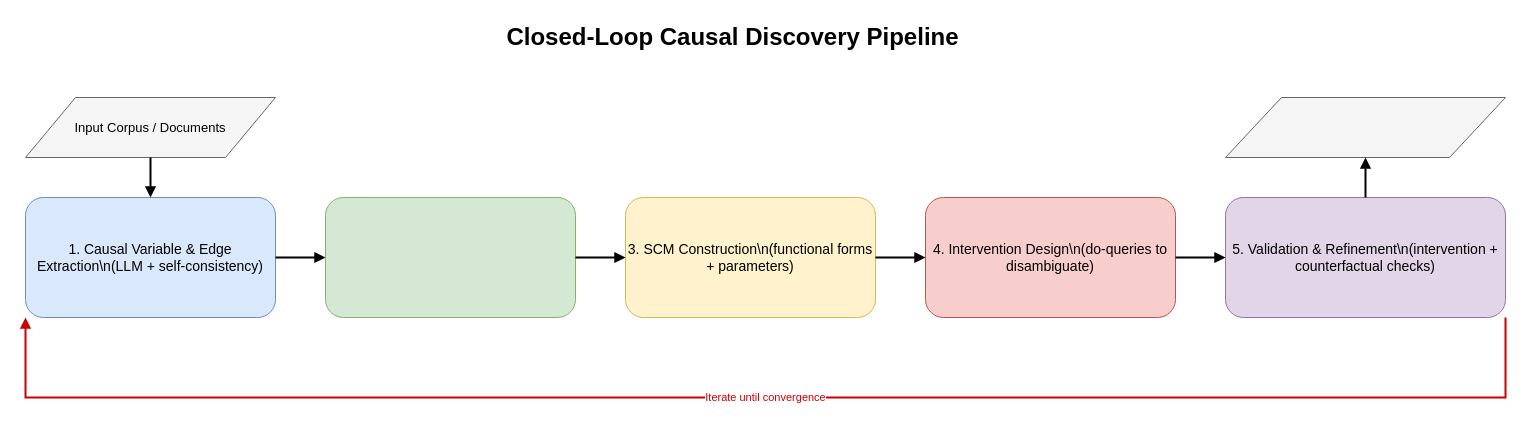
The diagram is 1531 pixels wide and 423 high, and some of its shapes have lost their labels. Here are the shapes that lost their labels. From the top down, the box of each, then its label:
(1224, 96, 1506, 158): Final SCM + Causal Graph
(324, 196, 576, 318): 2. Graph Induction\n(DAG checks + confidence)
